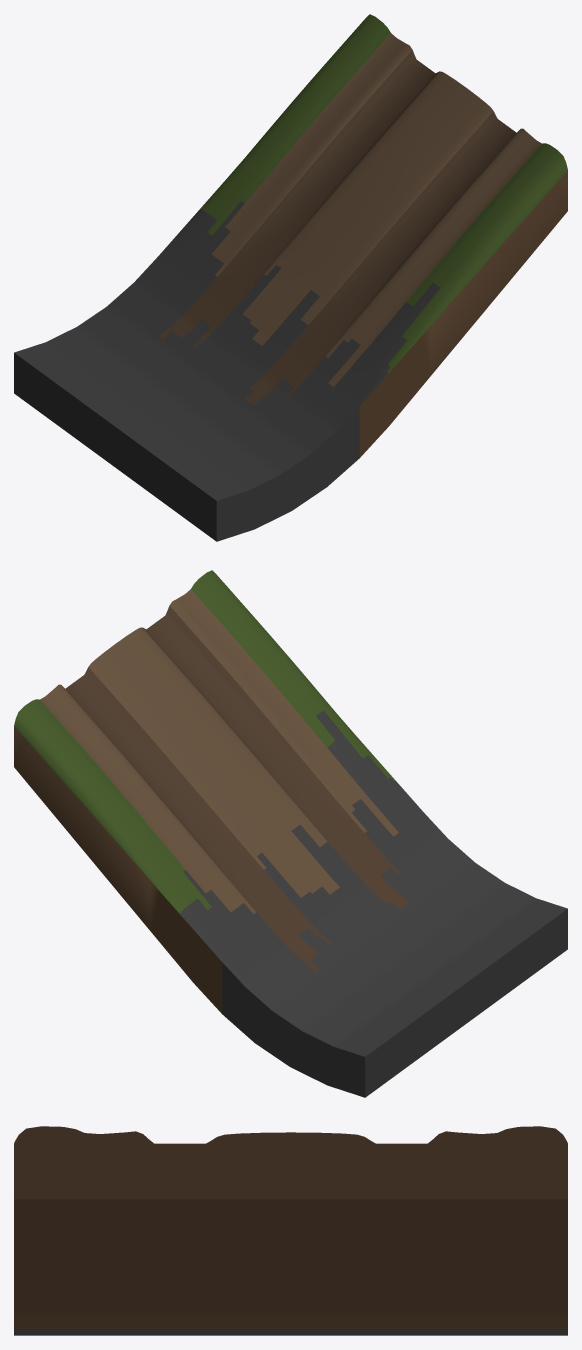
3 views of the same model, one above another, from view 1: azimuth 30°, elevation 25°; view 2: azimuth 150°, elevation 25°; view 3: azimuth 270°, elevation 25° (orthographic). The views are drawn at different scales.
Visible parts, largest first — view 1: d3u; view 2: d3u; view 3: d3u.
Boxes of the visible parts, bbox=[...] form: d3u: bbox=[14, 14, 567, 541]; d3u: bbox=[14, 570, 567, 1097]; d3u: bbox=[14, 1126, 567, 1335].
Size of the model in its own units: 9 by 7.31 by 9.
